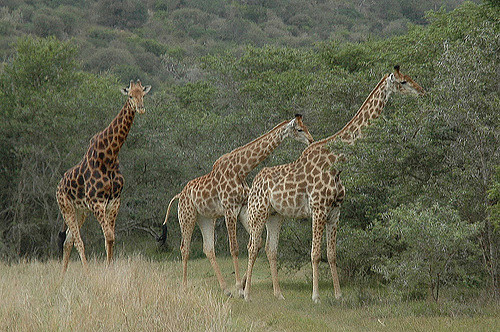giraffe: (246, 64, 428, 291), (169, 103, 320, 289), (51, 74, 166, 276)
